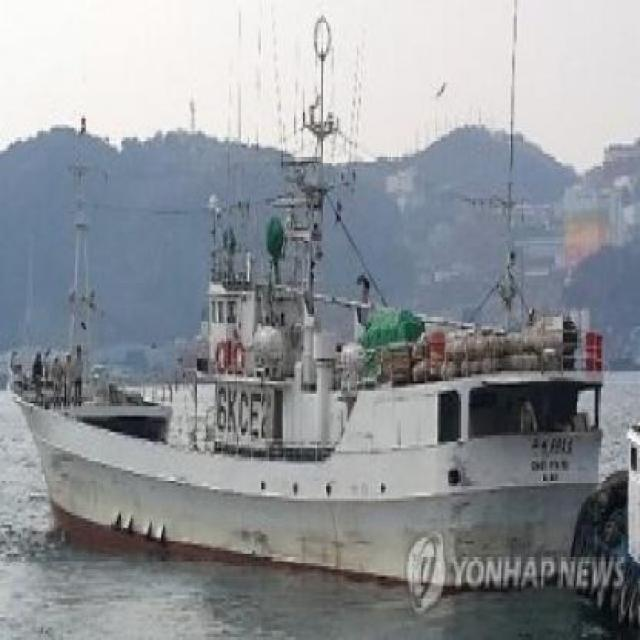Ship: (1, 121, 639, 615)
